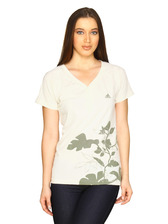clothoes: (36, 60, 134, 187)
